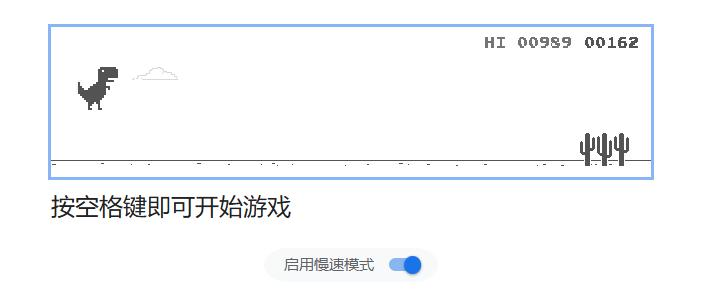cactus: (578, 132, 630, 168)
dino: (76, 66, 118, 111)
